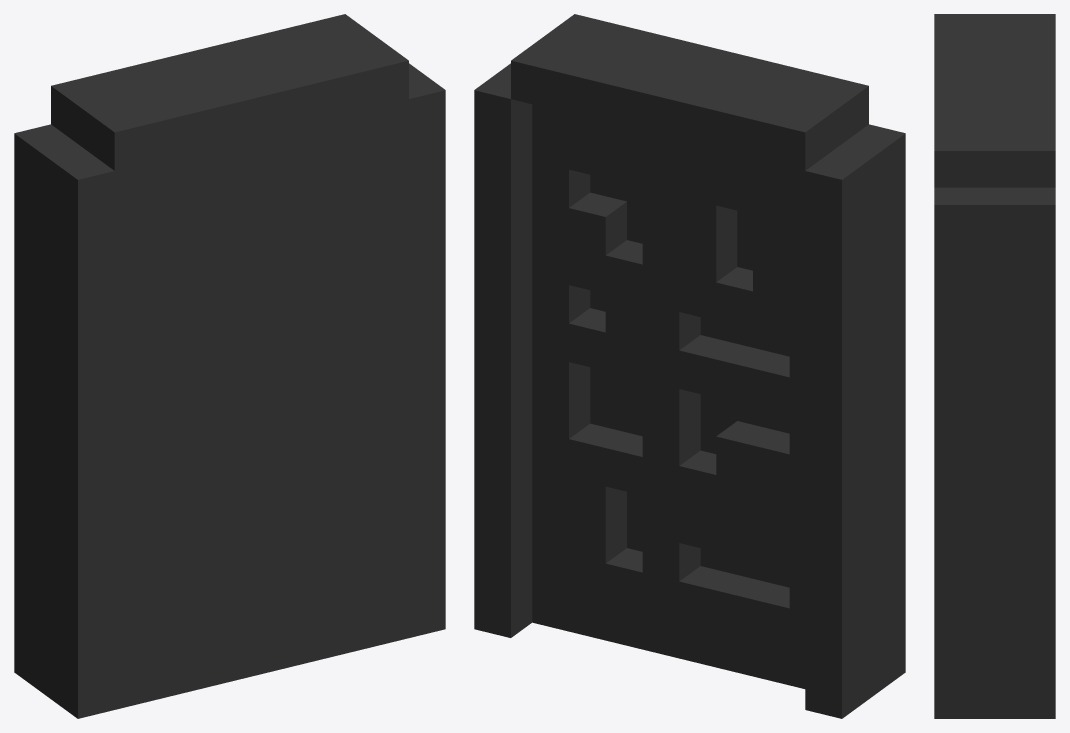
The model's file is Lapide 04.obj.
3 views of the same model, side by side, from view 1: azimuth 30°, elevation 25°; view 2: azimuth 150°, elevation 25°; view 3: azimuth 270°, elevation 25° (orthographic). The views are drawn at different scales.
Bounding box in the file's own units: 1 × 1.5 × 0.3.
1 material, 1 textured.
